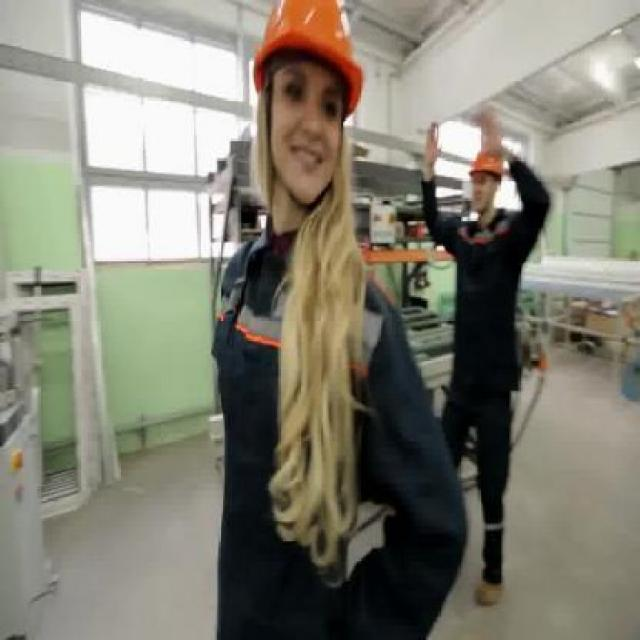Helmet: (252, 0, 366, 117), (469, 149, 503, 180)
Vest: (206, 212, 474, 638), (416, 153, 555, 570)
